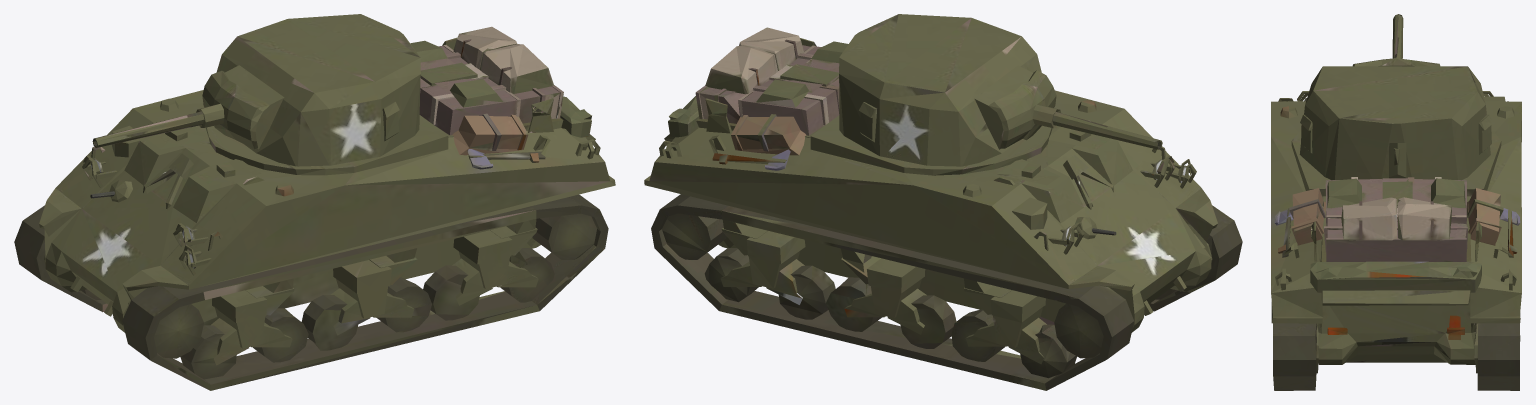
The model's file is bulge_us_armor_0.glb.
3 views of the same model, side by side, from view 1: azimuth 30°, elevation 25°; view 2: azimuth 150°, elevation 25°; view 3: azimuth 270°, elevation 25° (orthographic). The views are drawn at different scales.
Parts seen in each view (by area): view 1: geometry_0; view 2: geometry_0; view 3: geometry_0.
Part boxes in pixels (x1,y1,x2,y2): geometry_0: (14,14,615,390); geometry_0: (644,14,1242,390); geometry_0: (1271,14,1521,390).
Size of the model in its own units: 1.07 by 0.5346 by 0.5192.
Materials: 1 (1 with a texture image).
